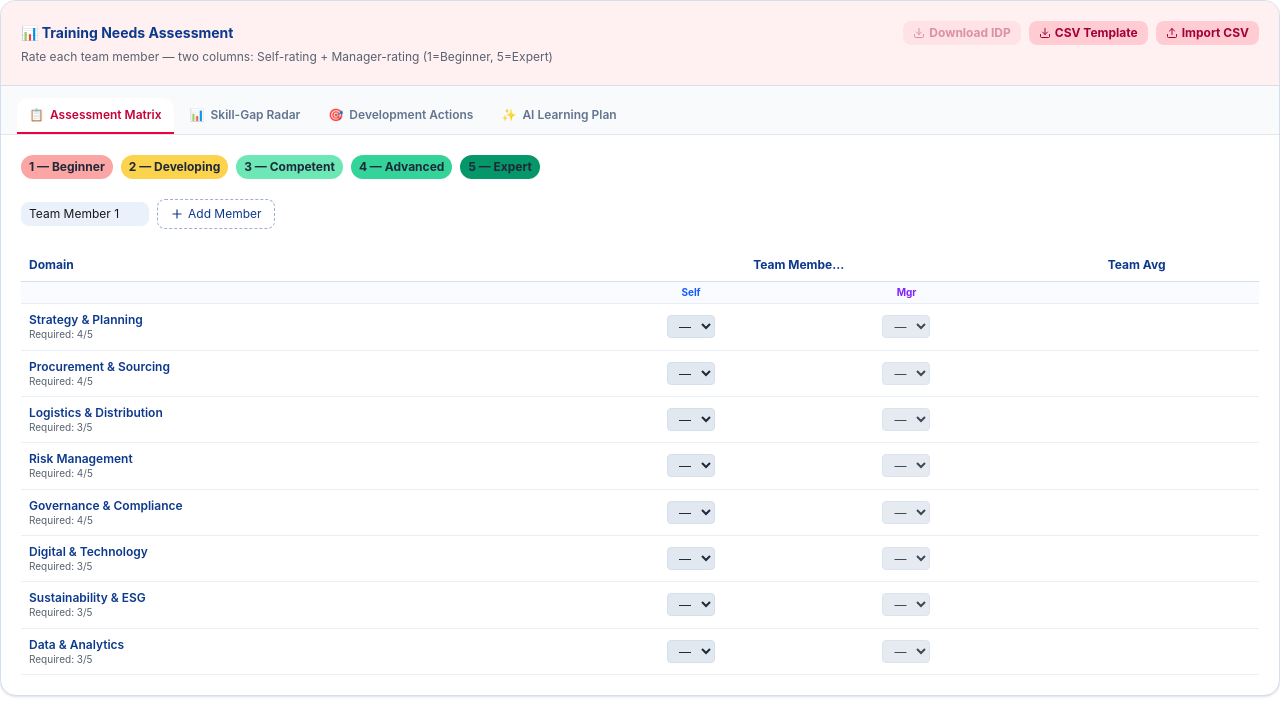
TrainingTools — ARIA tab↔panel linkage › switching to Radar tab renders correct tabpanel linkage
Click the tab "📊 Skill-Gap Radar": point(245, 116) 178,98 -> 312,134
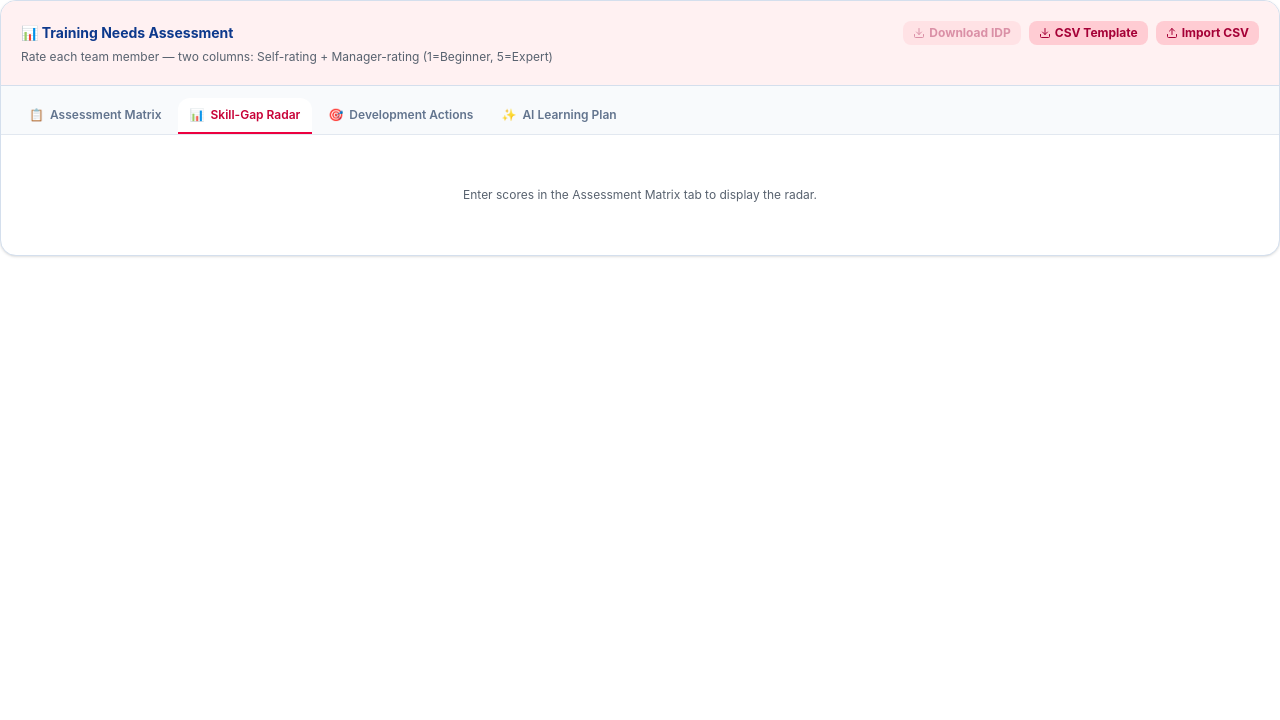
Result: the panel is shown at 463,187 -> 817,202
